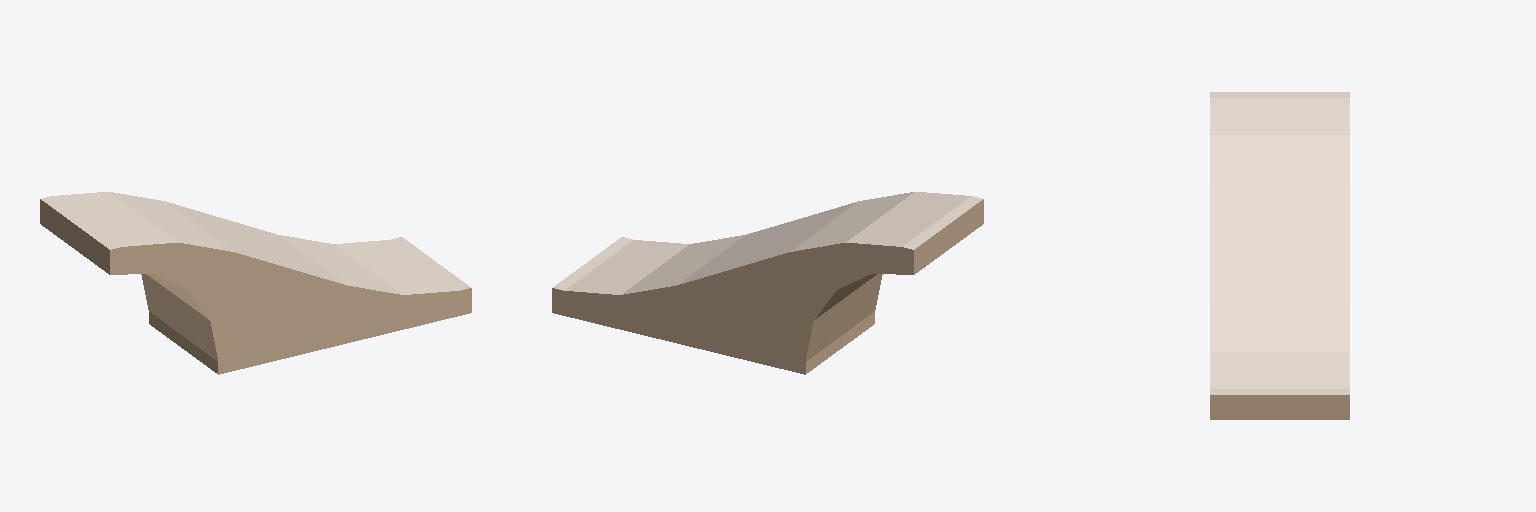
File: Floor_Bridge_Ramp.obj
The picture shows the model from 3 angles: view 1: azimuth 30°, elevation 25°; view 2: azimuth 150°, elevation 25°; view 3: azimuth 270°, elevation 25°; orthographic projection.
Visible parts, largest first — view 1: object1; view 2: object1; view 3: object1.
Boxes of the visible parts, x1=… form: object1: x1=40, y1=192, x2=471, y2=374; object1: x1=552, y1=192, x2=983, y2=374; object1: x1=1210, y1=92, x2=1349, y2=419.
Bounding box in the file's own units: 3 × 1.2 × 1.